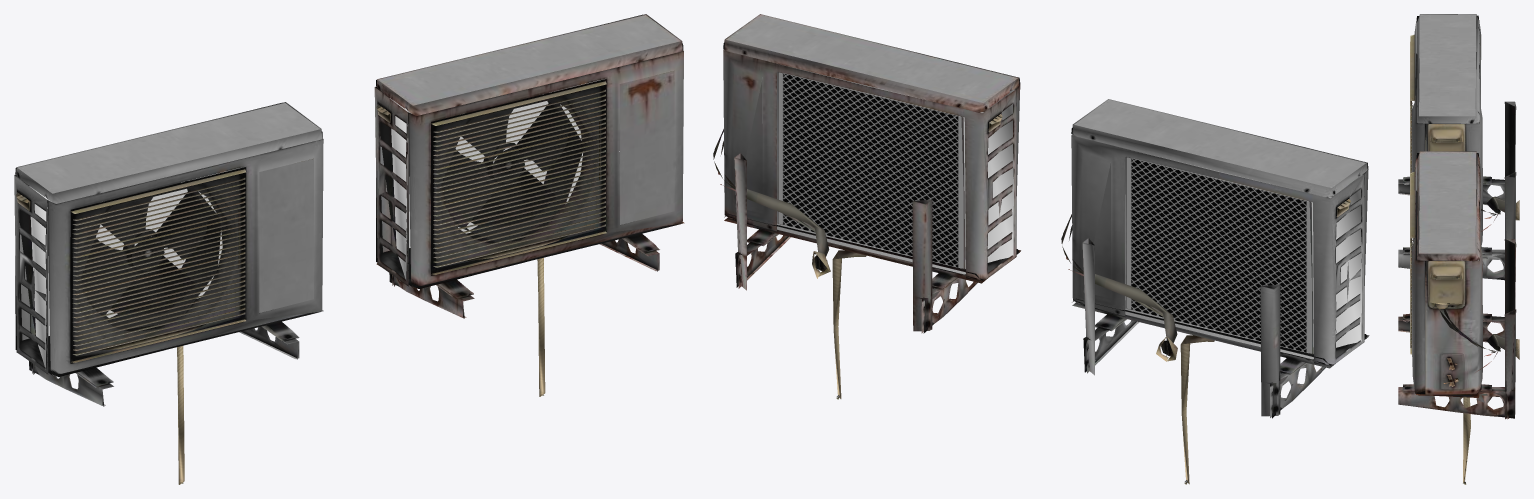
The model's file is isl_ac.glb.
The picture shows the model from 3 angles, left to right: view 1: azimuth 30°, elevation 25°; view 2: azimuth 150°, elevation 25°; view 3: azimuth 270°, elevation 25°; orthographic projection. The views are drawn at different scales.
Parts seen in each view (by area): view 1: exterior_aircon_unit; view 2: exterior_aircon_unit; view 3: exterior_aircon_unit.
Boxes of the visible parts, x1,y1,x2,y2 form: exterior_aircon_unit: (14, 14, 684, 484); exterior_aircon_unit: (713, 14, 1369, 484); exterior_aircon_unit: (1398, 14, 1519, 484).
Size of the model in its own units: 1.8 by 0.9289 by 0.3744.
Materials: 4 (4 with a texture image).
